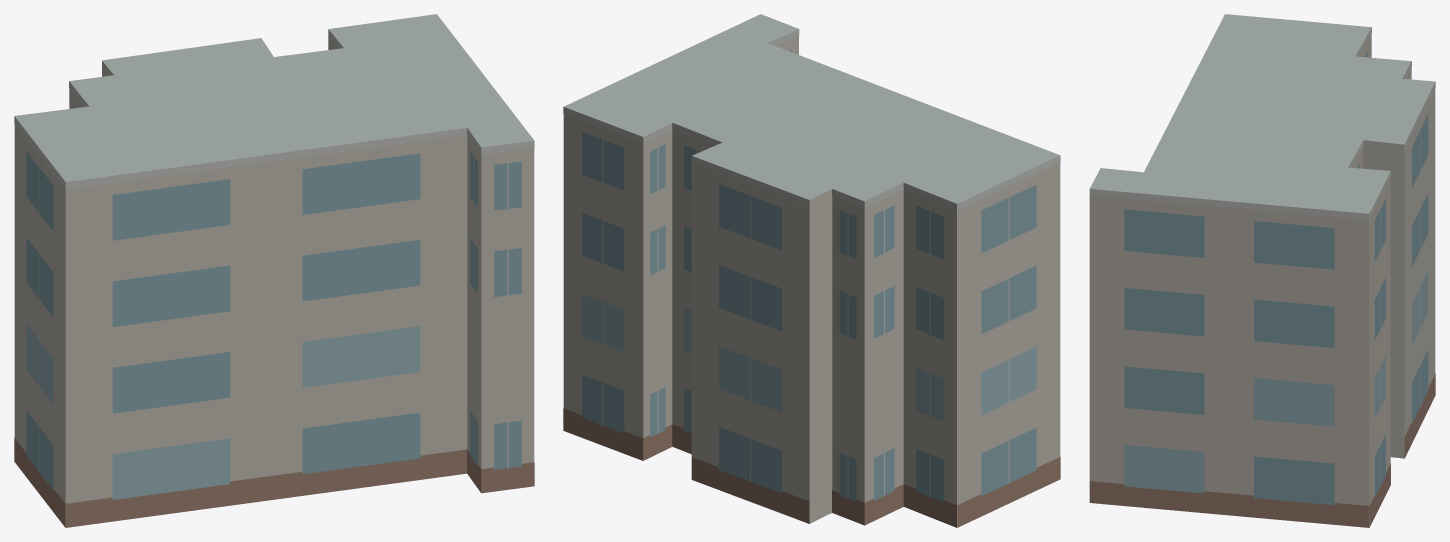
File: survey-upis-32646406.glb
3 views of the same model, side by side, from view 1: azimuth 30°, elevation 25°; view 2: azimuth 150°, elevation 25°; view 3: azimuth 270°, elevation 25° (orthographic). The views are drawn at different scales.
Parts seen in each view (by area): view 1: survey-upis-32646406.tmp; view 2: survey-upis-32646406.tmp; view 3: survey-upis-32646406.tmp.
Boxes of the visible parts, left/top/right/bottom form: survey-upis-32646406.tmp: left=14, top=14, right=534, bottom=527; survey-upis-32646406.tmp: left=563, top=14, right=1060, bottom=527; survey-upis-32646406.tmp: left=1089, top=14, right=1435, bottom=527.
Bounding box in the file's own units: 15.98 × 11.7 × 11.69.
